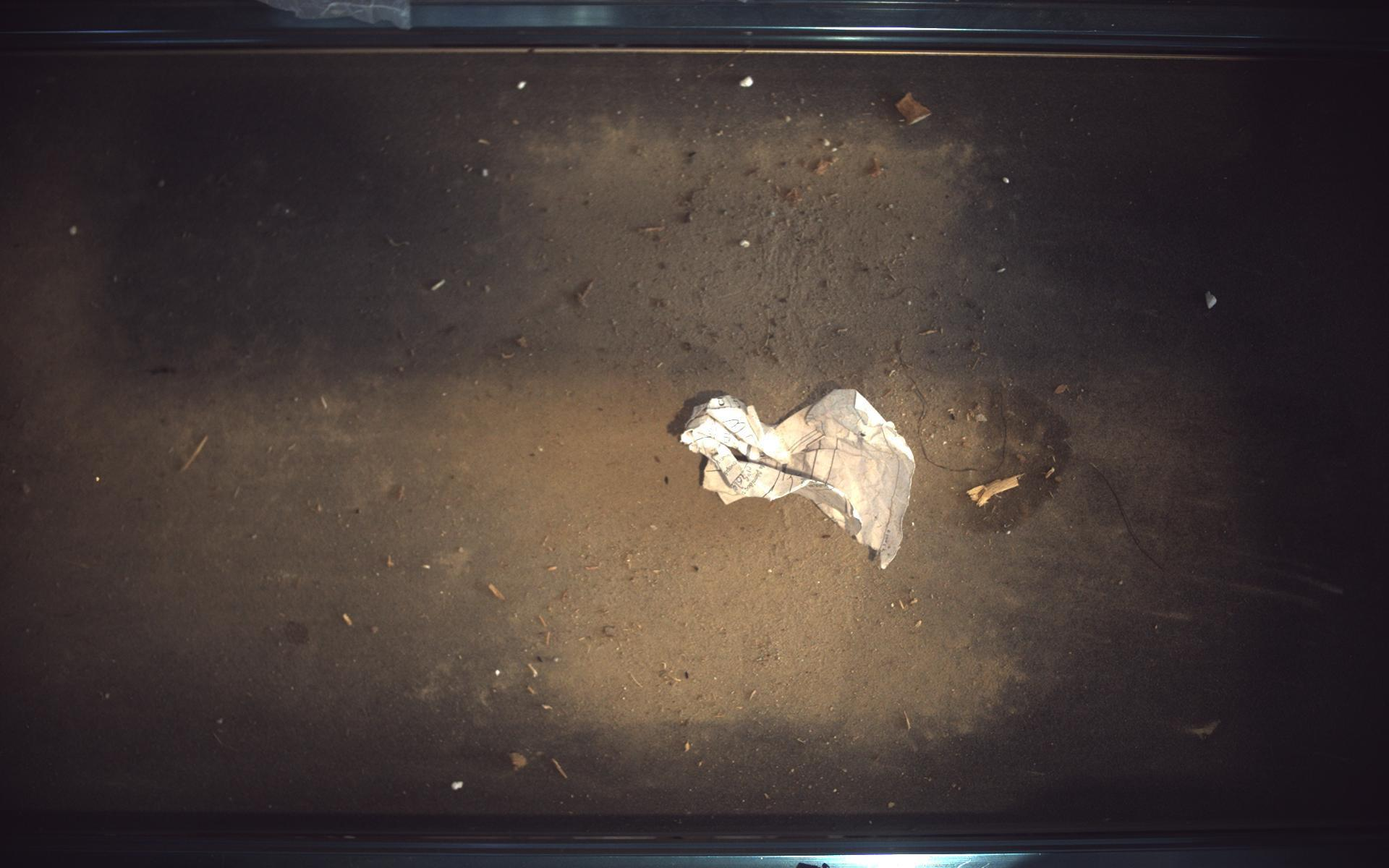general_w: (682, 389, 917, 569)
